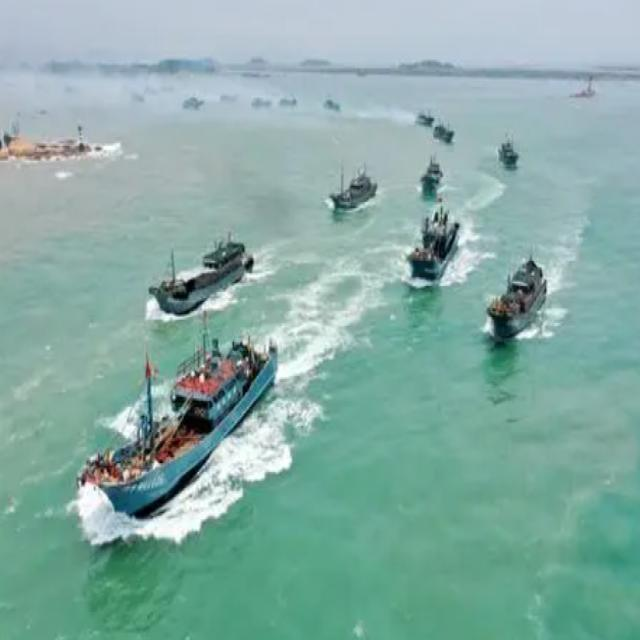fishing boat: (79, 327, 281, 509), (150, 222, 250, 316), (482, 255, 550, 339), (406, 202, 464, 282), (324, 158, 376, 208), (496, 133, 521, 170), (420, 159, 444, 197), (570, 72, 598, 98), (428, 123, 461, 144), (180, 94, 206, 110), (319, 94, 343, 111), (250, 96, 274, 112), (414, 110, 438, 124), (281, 94, 301, 107), (217, 91, 240, 102)
